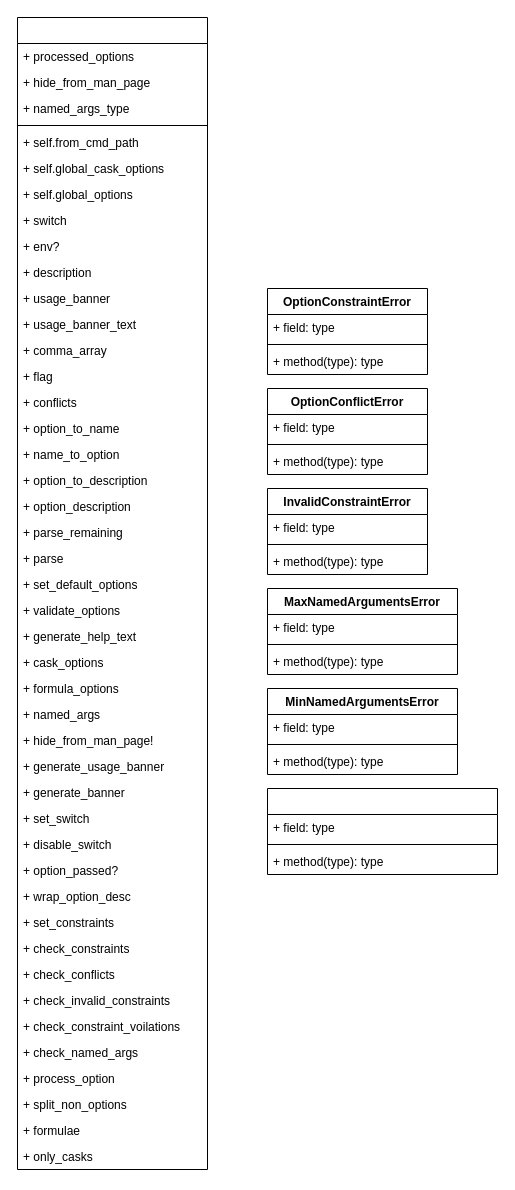
Some shapes in this 515 by 1190 pixel diagram are drawn without their labels. The shapes that lost their labels are listed below. From the top down, each one's box as (x1, y1, x2, y2) in pixels, then its label:
(16, 16, 208, 1170): Homebrew::CLI:Parser
(266, 788, 498, 874): NumberOfNamedArgumentError
